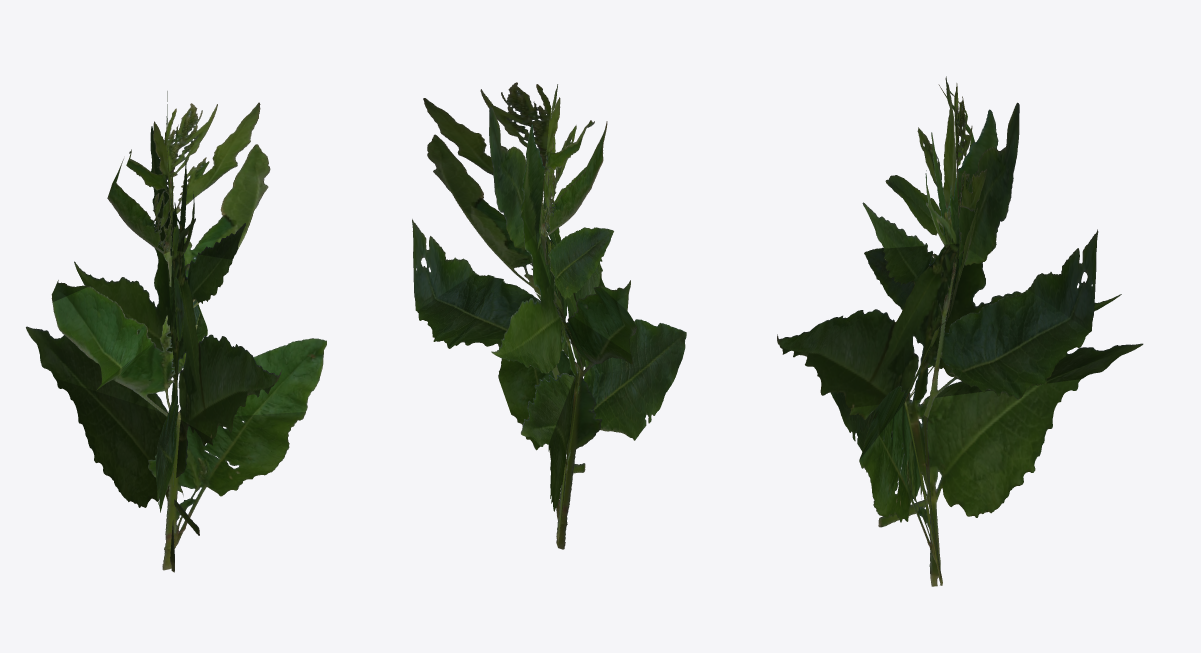
Rendered from bush4.obj.
The picture shows the model from 3 angles, left to right: view 1: azimuth 30°, elevation 25°; view 2: azimuth 150°, elevation 25°; view 3: azimuth 270°, elevation 25°; orthographic projection. The views are drawn at different scales.
Visible parts, largest first — view 1: bush_04b_Plane.009; view 2: bush_04b_Plane.009; view 3: bush_04b_Plane.009.
Boxes of the visible parts, bbox=[...] form: bush_04b_Plane.009: bbox=[26, 91, 326, 572]; bush_04b_Plane.009: bbox=[412, 82, 686, 549]; bush_04b_Plane.009: bbox=[777, 76, 1143, 586].
Size of the model in its own units: 3.23 by 4.71 by 3.62.
